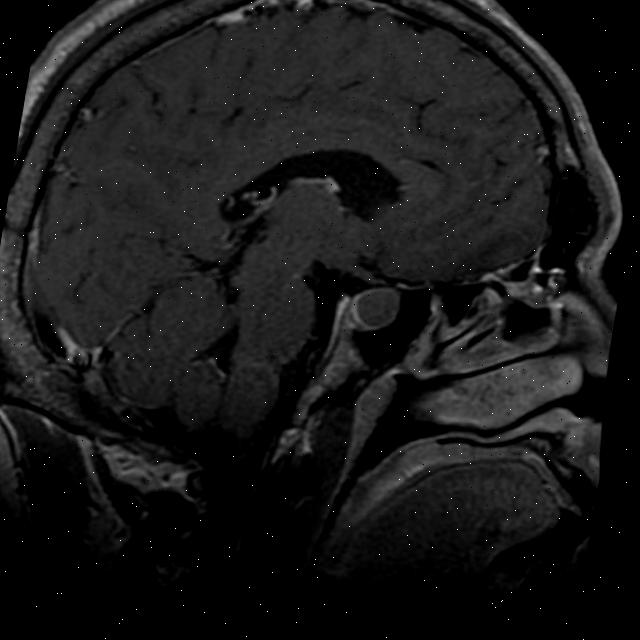Pituitary: (346, 281, 406, 336)
